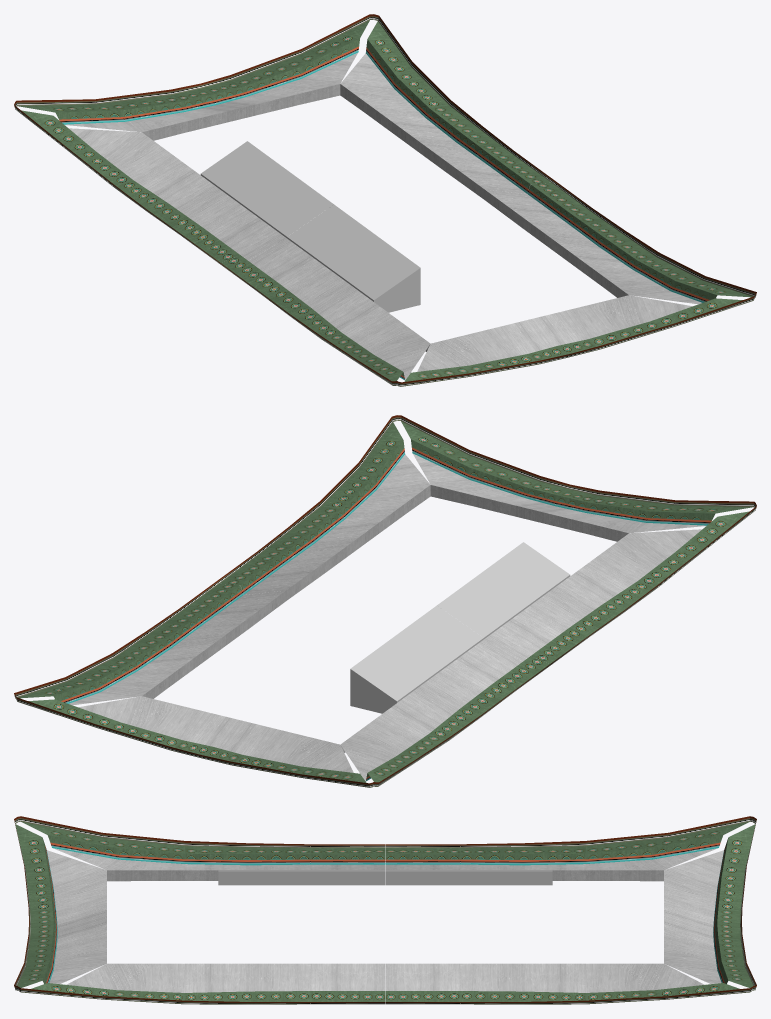
The model's file is SM_Roofplate10E.fbx.
3 renders of one model, top to bottom at view 1: azimuth 30°, elevation 25°; view 2: azimuth 150°, elevation 25°; view 3: azimuth 270°, elevation 25°, orthographic. The views are drawn at different scales.
Visible parts, largest first — view 1: SM_Roofplate10E; view 2: SM_Roofplate10E; view 3: SM_Roofplate10E.
Part boxes in pixels (box(x1,y1,x2,y2)): SM_Roofplate10E: box(14, 14, 756, 386); SM_Roofplate10E: box(14, 415, 756, 787); SM_Roofplate10E: box(14, 816, 756, 1004).
Bounding box in the file's own units: 902 × 1647 × 89.42.
